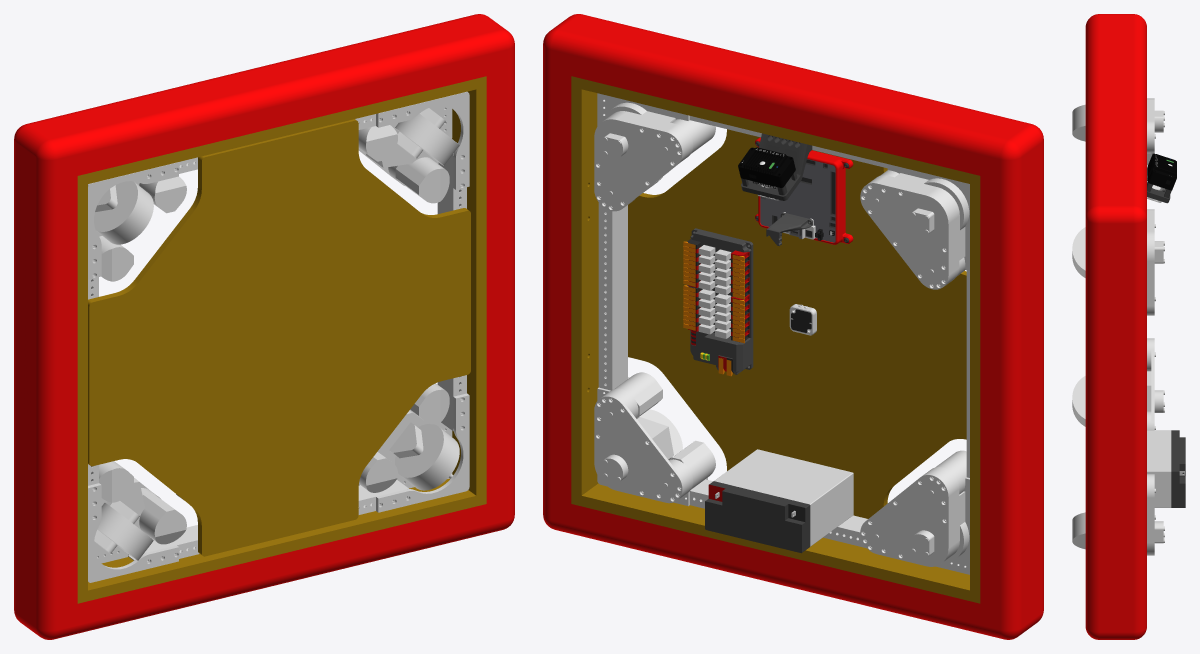
3 renders of one model, left to right at view 1: azimuth 30°, elevation 25°; view 2: azimuth 150°, elevation 25°; view 3: azimuth 270°, elevation 25°, orthographic. The views are drawn at different scales.
Parts seen in each view (by area): view 1: Part 10, Part 8, Block MK4i (×4), Right Backer, Rear Backer, Left Backer, Front Backer, Tube 2"x1"x19.5" (×2); view 2: Part 8, Part 10, Block MK4i (×4), Robot Battery, Right Backer, Tube 2"x1"x19.5" (×4), Rear Backer, Simplified PDH, Left Backer, Front Backer, id56, Part 2 (+4 smaller); view 3: Part 8, Block MK4i (×4), Robot Battery, Minimal, Part 2.
Boxes of the visible parts, left/top/right/bottom form: Part 10: left=88, top=119, right=470, bottom=556; Part 8: left=14, top=14, right=514, bottom=639; Block MK4i (×4): left=88, top=91, right=469, bottom=582; Right Backer: left=452, top=76, right=486, bottom=506; Rear Backer: left=88, top=478, right=476, bottom=600; Left Backer: left=77, top=173, right=87, bottom=603; Front Backer: left=88, top=79, right=476, bottom=183; Tube 2"x1"x19.5" (×2): left=128, top=142, right=466, bottom=560; Part 8: left=543, top=14, right=1043, bottom=639; Part 10: left=628, top=129, right=966, bottom=518; Block MK4i (×4): left=594, top=93, right=969, bottom=574; Robot Battery: left=705, top=449, right=853, bottom=553; Right Backer: left=571, top=76, right=598, bottom=506; Tube 2"x1"x19.5" (×4): left=598, top=116, right=969, bottom=548; Rear Backer: left=581, top=483, right=969, bottom=600; Simplified PDH: left=683, top=228, right=753, bottom=376; Left Backer: left=970, top=173, right=980, bottom=603; Front Backer: left=581, top=79, right=969, bottom=183; id56: left=760, top=159, right=835, bottom=242; Part 2: left=741, top=133, right=812, bottom=200; Part 8: left=1085, top=14, right=1146, bottom=639; Block MK4i (×4): left=1072, top=98, right=1164, bottom=555; Robot Battery: left=1147, top=430, right=1185, bottom=507; Minimal: left=1148, top=153, right=1176, bottom=190; Part 2: left=1147, top=167, right=1171, bottom=203.
Bounding box in the file's own units: 0.889 × 0.889 × 0.211.
